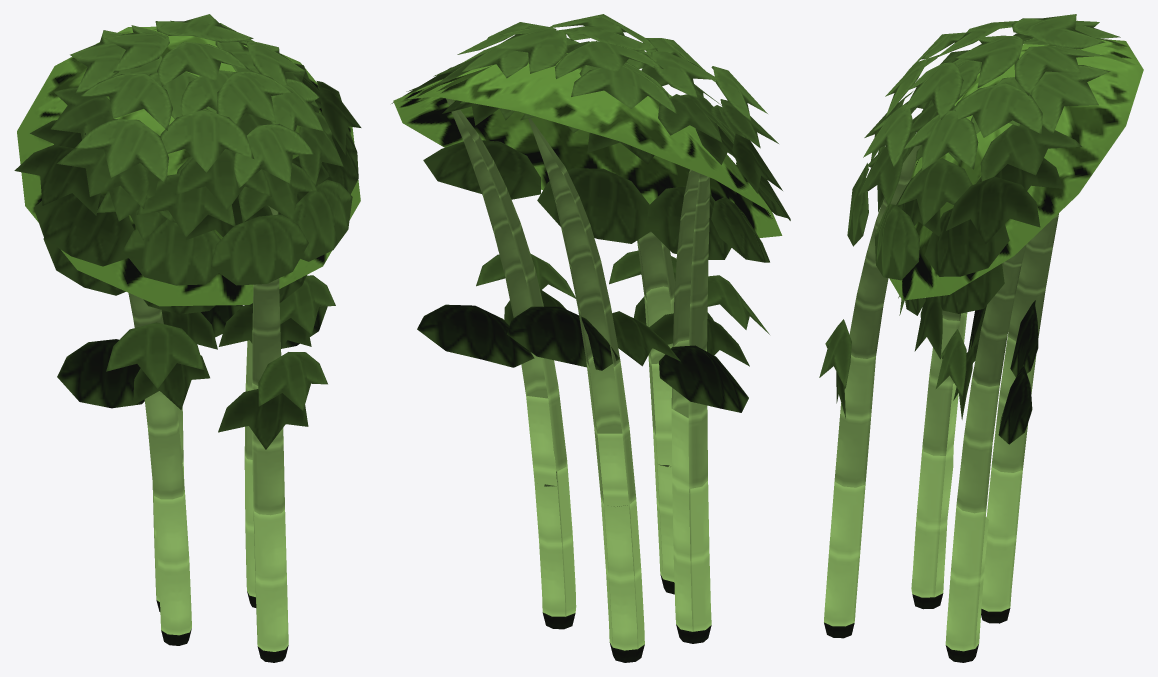
The model's file is tree-bamboo-a.glb.
3 views of the same model, side by side, from view 1: azimuth 30°, elevation 25°; view 2: azimuth 150°, elevation 25°; view 3: azimuth 270°, elevation 25° (orthographic). The views are drawn at different scales.
Visible parts, largest first — view 1: PltTreeBamboo__PltTreeBamboo4_node1, PltTreeBamboo__PltTreeBamboo4_node2, PltTreeBamboo__PltTreeBamboo4_node3; view 2: PltTreeBamboo__PltTreeBamboo4_node1, PltTreeBamboo__PltTreeBamboo4_node2, PltTreeBamboo__PltTreeBamboo4_node3; view 3: PltTreeBamboo__PltTreeBamboo4_node1, PltTreeBamboo__PltTreeBamboo4_node2, PltTreeBamboo__PltTreeBamboo4_node3.
Boxes of the visible parts, x1=… form: PltTreeBamboo__PltTreeBamboo4_node1: x1=14, y1=14, x2=361, y2=449; PltTreeBamboo__PltTreeBamboo4_node2: x1=128, y1=206, x2=288, y2=662; PltTreeBamboo__PltTreeBamboo4_node3: x1=17, y1=26, x2=360, y2=306; PltTreeBamboo__PltTreeBamboo4_node1: x1=391, y1=14, x2=790, y2=412; PltTreeBamboo__PltTreeBamboo4_node2: x1=446, y1=98, x2=711, y2=662; PltTreeBamboo__PltTreeBamboo4_node3: x1=393, y1=53, x2=782, y2=237; PltTreeBamboo__PltTreeBamboo4_node1: x1=819, y1=14, x2=1120, y2=444; PltTreeBamboo__PltTreeBamboo4_node2: x1=824, y1=145, x2=1058, y2=662; PltTreeBamboo__PltTreeBamboo4_node3: x1=889, y1=39, x2=1143, y2=300.
Size of the model in its own units: 2.08 by 3.42 by 1.68.
3 materials, 3 textured.
